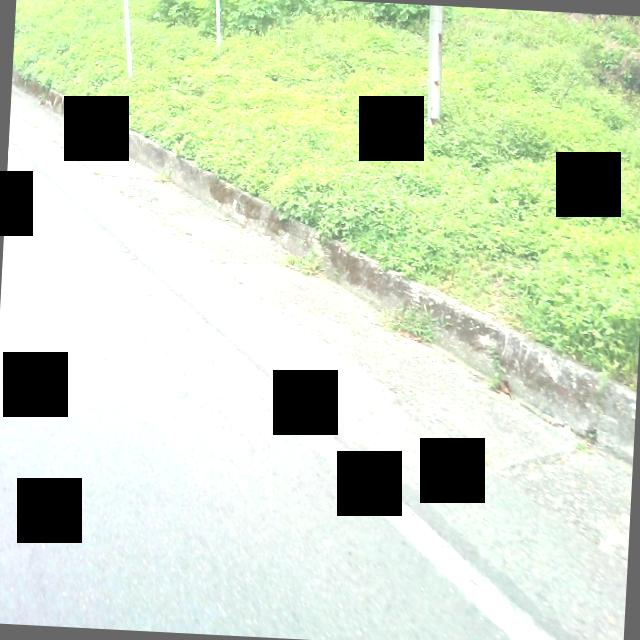DITCH: (0, 20, 640, 640), (0, 70, 640, 640), (0, 81, 640, 640)
